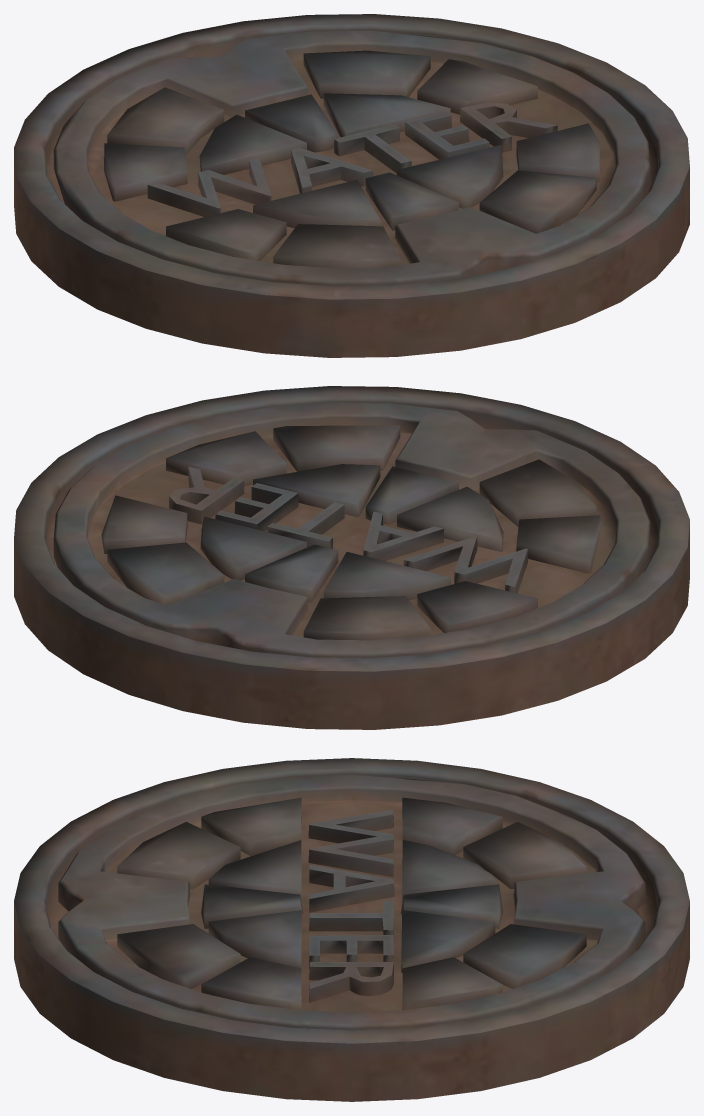
The model's file is prop_manhole_aaa-e6bb13ce84bc.glb.
3 renders of one model, top to bottom at view 1: azimuth 30°, elevation 25°; view 2: azimuth 150°, elevation 25°; view 3: azimuth 270°, elevation 25°, orthographic.
Visible parts, largest first — view 1: water_manhole_cover_frame; view 2: water_manhole_cover_frame; view 3: water_manhole_cover_frame.
Part boxes in pixels (box(x1,y1,x2,y2)): water_manhole_cover_frame: box(14, 14, 689, 357); water_manhole_cover_frame: box(14, 386, 689, 729); water_manhole_cover_frame: box(14, 758, 689, 1101).
Size of the model in its own units: 0.6908 by 0.0676 by 0.6908.
Materials: 1 (1 with a texture image).
